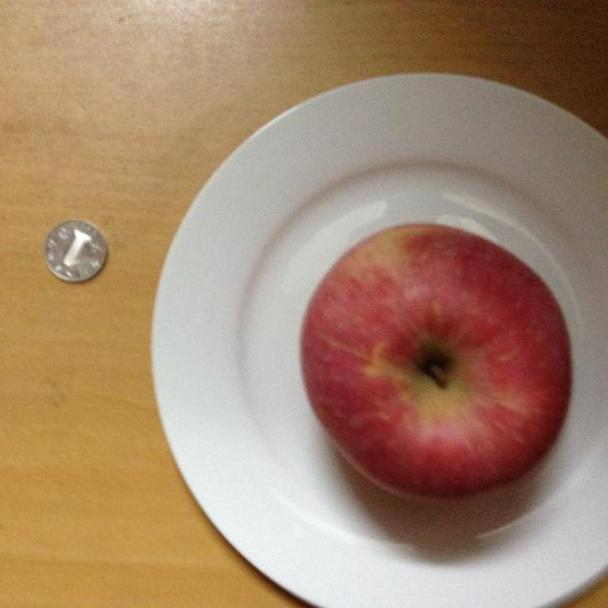apple: (298, 225, 570, 503)
